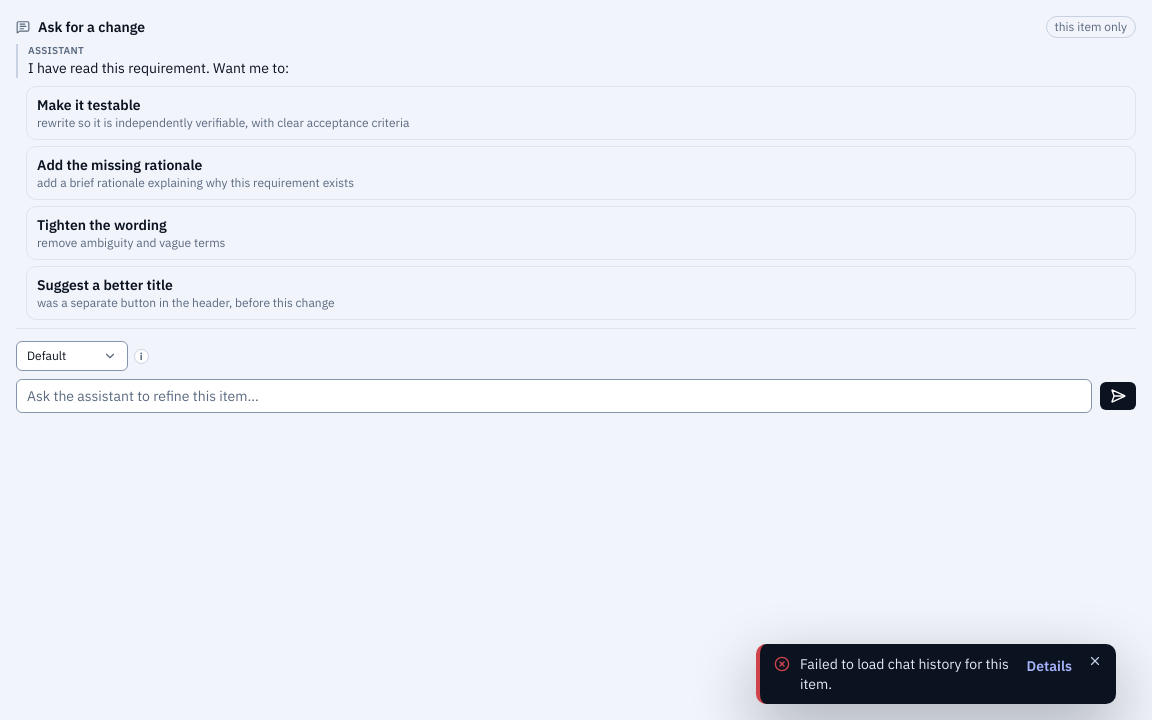
Test case: ChatPanel › shows an error toast and renders an empty history (not a crash) when getChatHistory fails to load chat history
This screenshot has width=1152, height=720.
Expected: the text "Failed to load chat history for this item." is shown, [800, 654, 1010, 694]
Options only mount once the (Radix combobox) select is opened.
Click the dropdown named "Model": (72, 356) [16, 341, 128, 371]
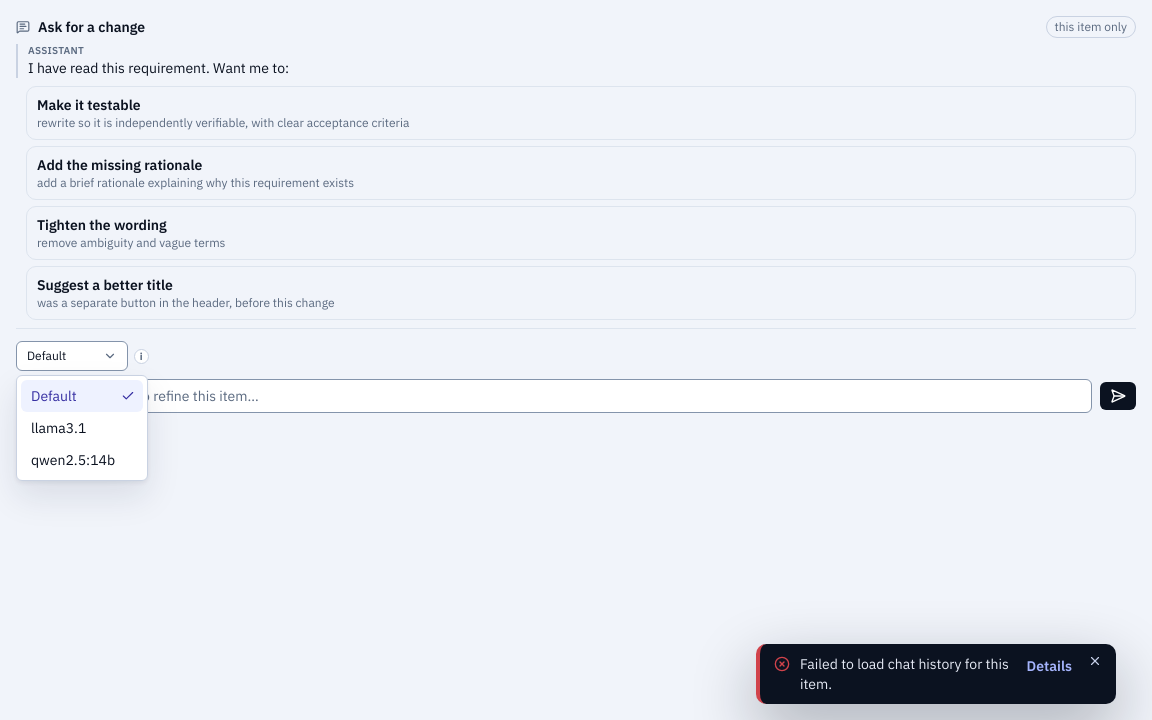
Now the option "llama3.1" is shown, box [31, 419, 86, 437]
